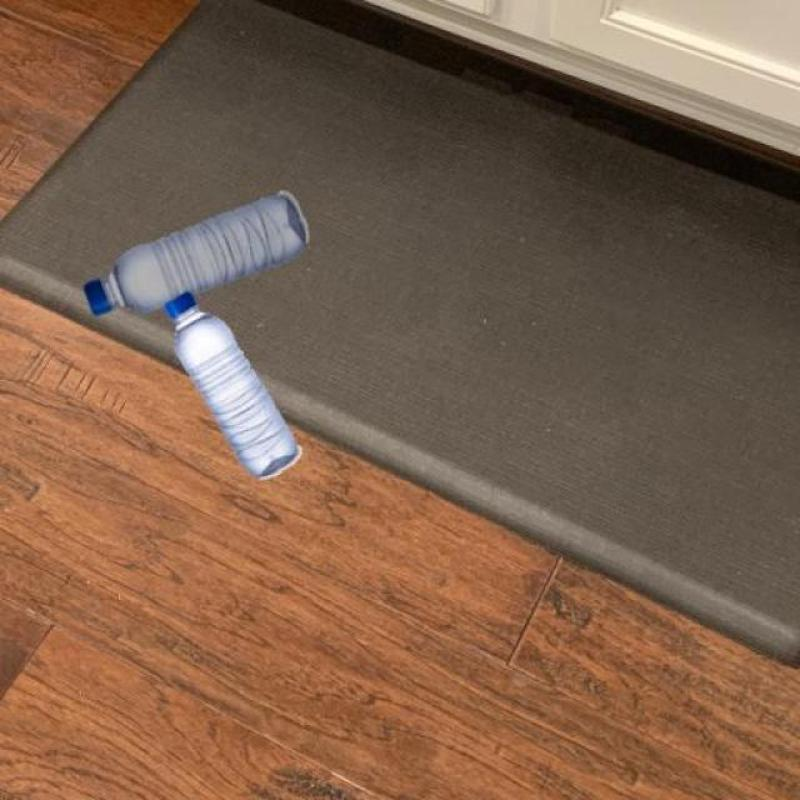botella: (85, 192, 309, 316), (157, 292, 302, 482)
